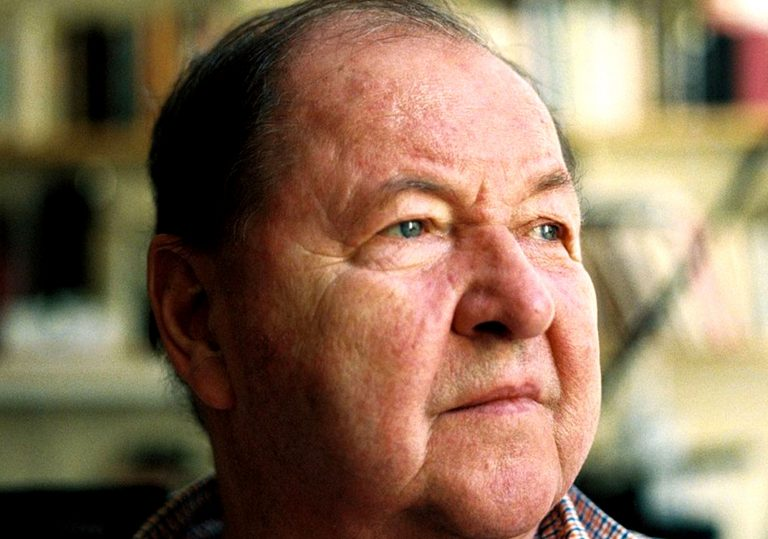human: (96, 1, 680, 539)
